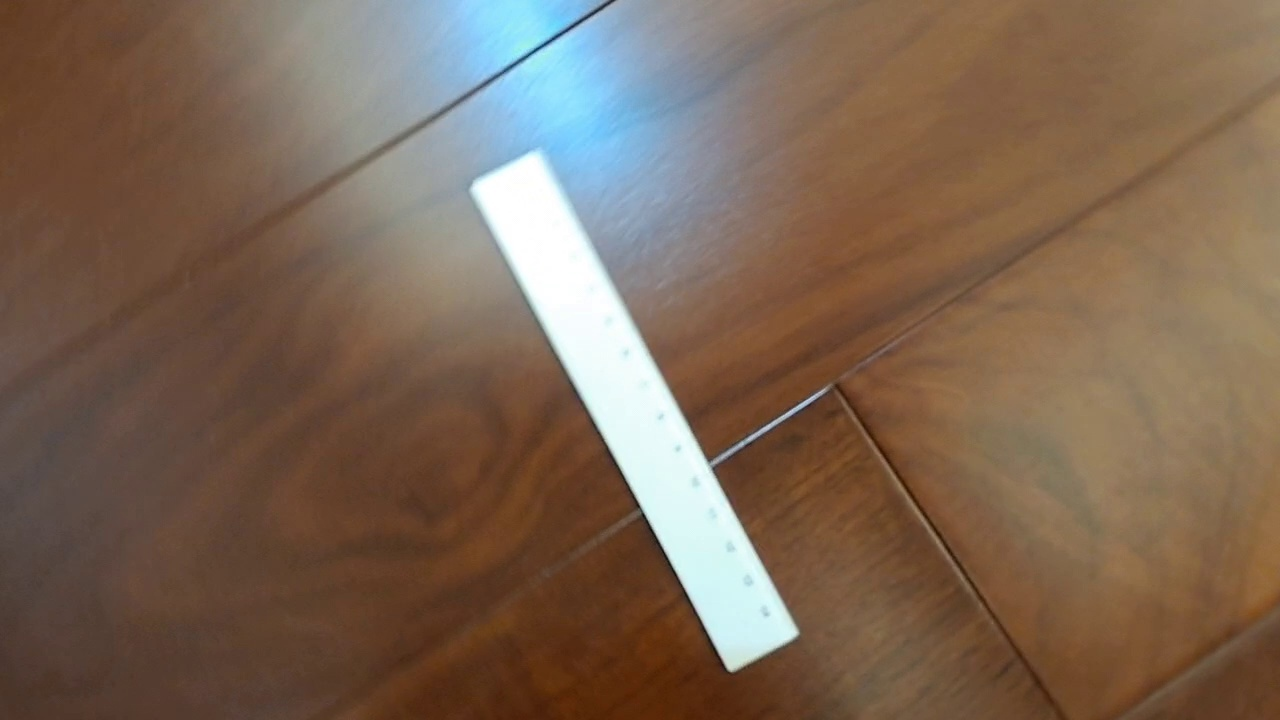ruler: (467, 145, 802, 675)
